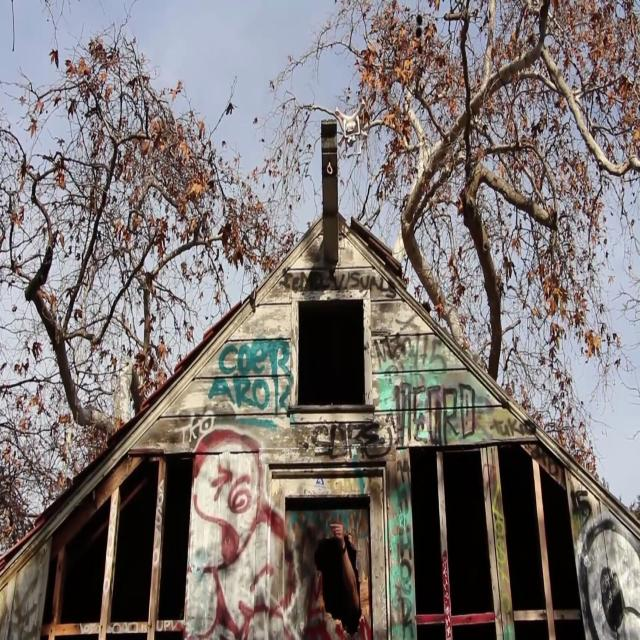drone: (332, 96, 372, 148)
